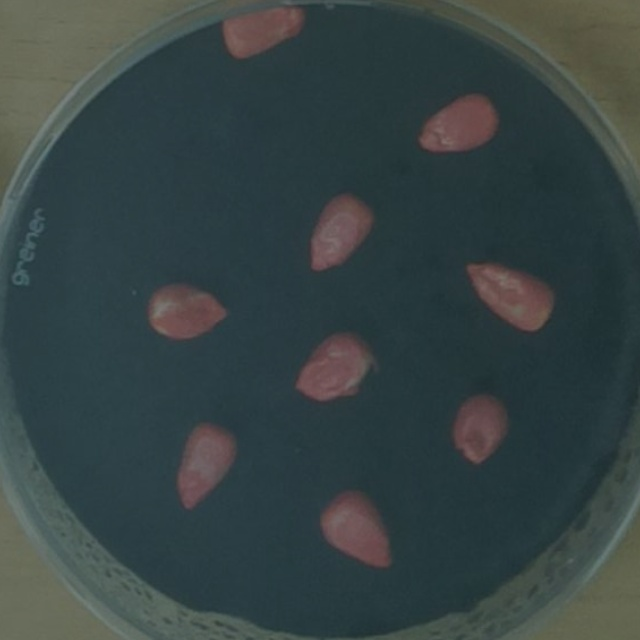Zea mays: (455, 252, 565, 341), (287, 320, 386, 407), (168, 412, 246, 517), (312, 479, 400, 572), (298, 184, 382, 279), (409, 80, 505, 161), (139, 274, 237, 347), (215, 0, 315, 65), (444, 384, 517, 471)
